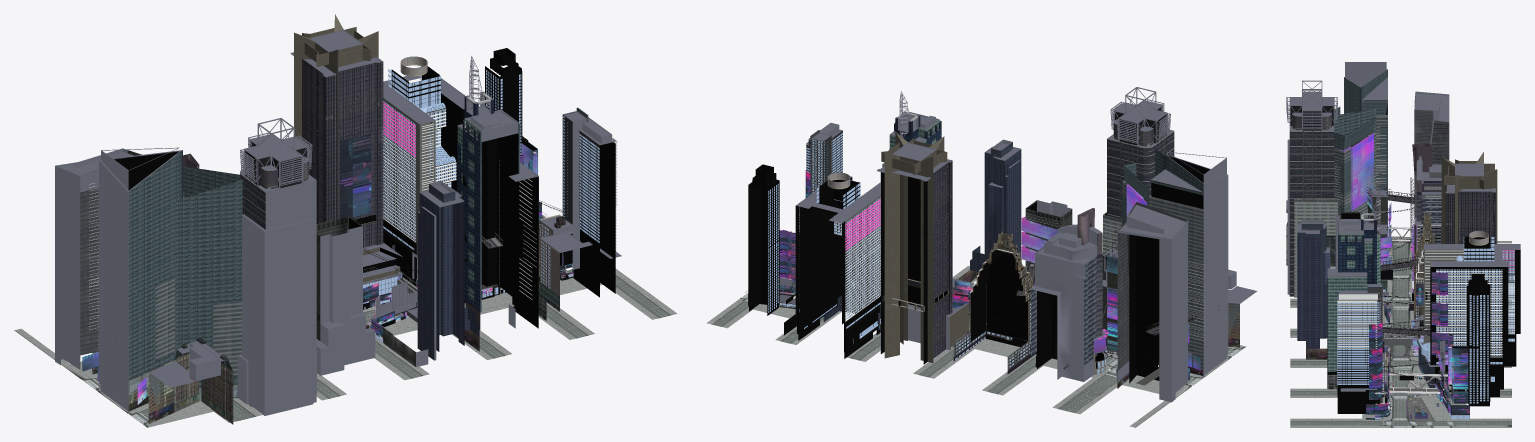
The model's file is city29-transformed.glb.
3 views of the same model, side by side, from view 1: azimuth 30°, elevation 25°; view 2: azimuth 150°, elevation 25°; view 3: azimuth 270°, elevation 25° (orthographic). The views are drawn at different scales.
Visible parts, largest first — view 1: Object_14, Object_180, Object_26, Object_41, Object_32, Object_11, Plane.007, Object_186, Object_189; view 2: Object_14, Object_26, Object_180, Object_41, Object_32, Object_11, Plane.007, Object_186, Object_189; view 3: Object_180, Object_14, Object_26, Object_32, Object_41, Object_11, Plane.007, Cube.031, Object_186, Object_4, BézierCurve.062, Cube.046 (+1 smaller).
Part boxes in pixels (box(x1,y1,x2,y2)): Object_14: box(55, 30, 621, 415); Object_180: box(80, 58, 538, 406); Object_26: box(114, 48, 615, 328); Object_41: box(92, 14, 615, 424); Object_32: box(14, 214, 677, 427); Object_11: box(340, 107, 587, 314); Plane.007: box(89, 112, 617, 347); Object_186: box(82, 245, 417, 404); Object_189: box(368, 102, 415, 329); Object_14: box(740, 87, 1257, 402); Object_26: box(748, 156, 1209, 383); Object_180: box(882, 111, 1210, 370); Object_41: box(806, 101, 1239, 388); Object_32: box(706, 266, 1246, 427); Object_11: box(748, 130, 1189, 343); Plane.007: box(799, 139, 1204, 340); Object_186: box(823, 250, 1200, 380); Object_189: box(845, 127, 1164, 250); Object_180: box(1289, 69, 1495, 371); Object_14: box(1286, 62, 1520, 427); Object_26: box(1326, 103, 1520, 418); Object_32: box(1290, 241, 1511, 427); Object_41: box(1286, 106, 1514, 403); Object_11: box(1339, 133, 1469, 418); Plane.007: box(1330, 135, 1514, 357); Cube.031: box(1380, 191, 1430, 335); Object_186: box(1367, 191, 1447, 406); Object_4: box(1388, 227, 1451, 389); BézierCurve.062: box(1381, 208, 1447, 381); Cube.046: box(1383, 334, 1418, 357).
Size of the model in its own units: 29.8 by 20.82 by 15.74.
Materials: 22 (20 with a texture image).
